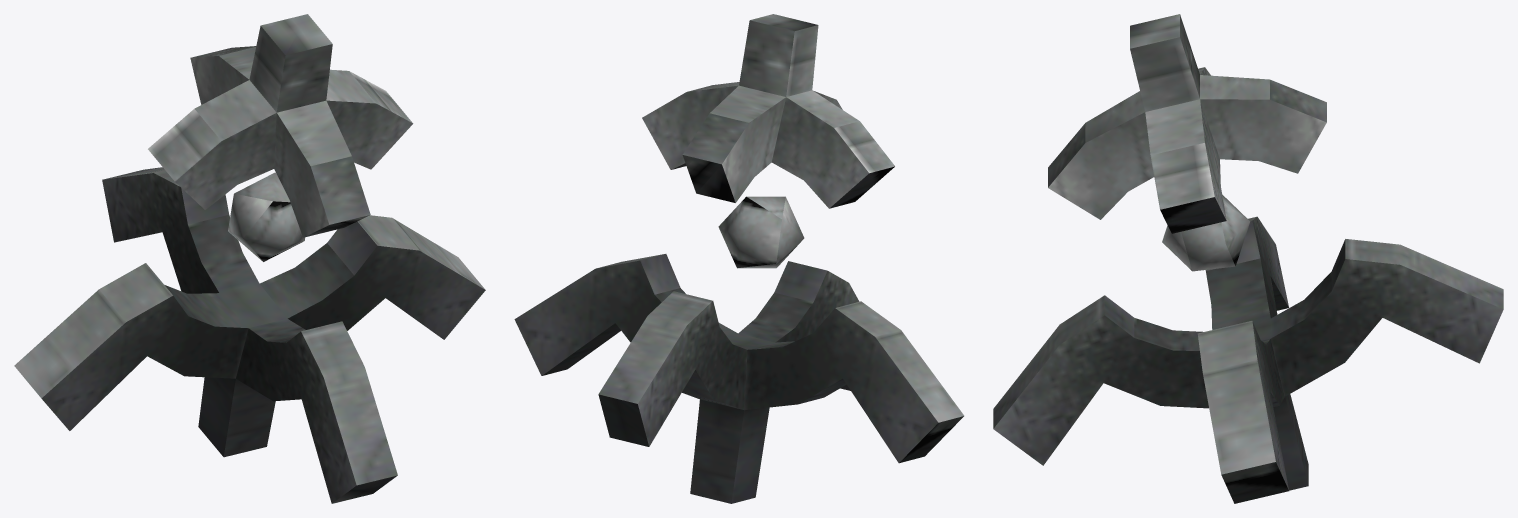
File: a5.ico.obj
The picture shows the model from 3 angles, left to right: view 1: azimuth 30°, elevation 25°; view 2: azimuth 150°, elevation 25°; view 3: azimuth 270°, elevation 25°; orthographic projection. The views are drawn at different scales.
Size of the model in its own units: 5 by 4.95 by 4.96.
1 material, 1 textured.
